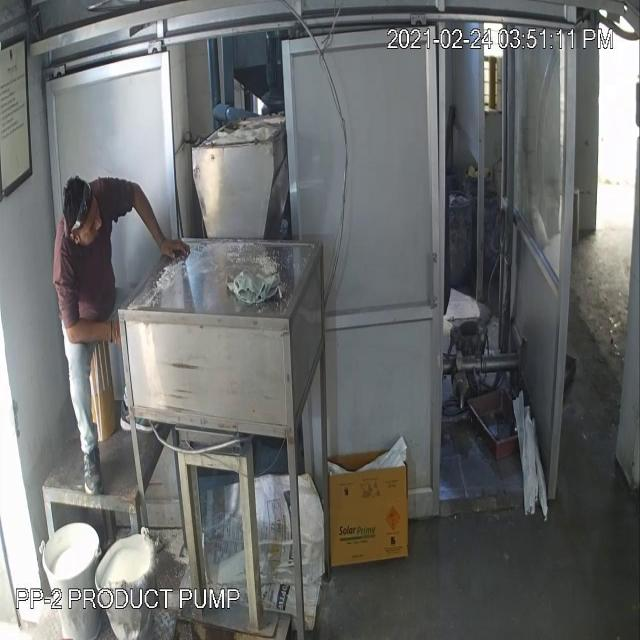no-helmet: (58, 172, 100, 234)
